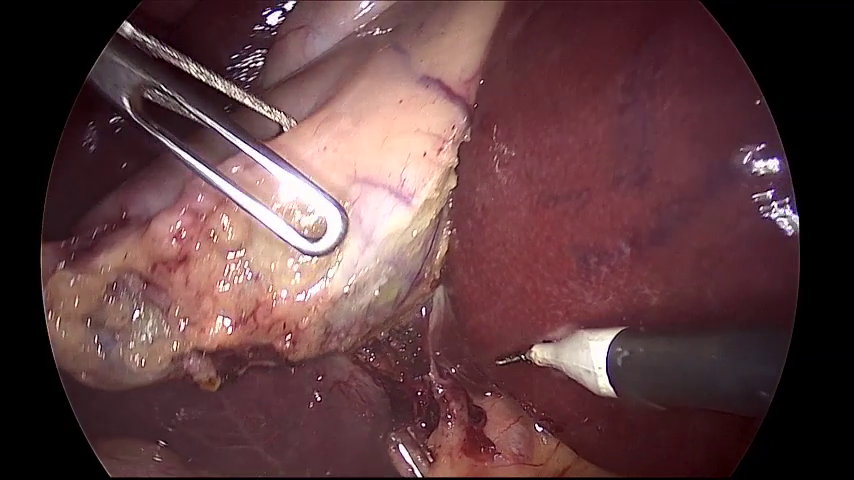grasper: (88, 20, 348, 257)
lhook: (496, 324, 792, 418)
